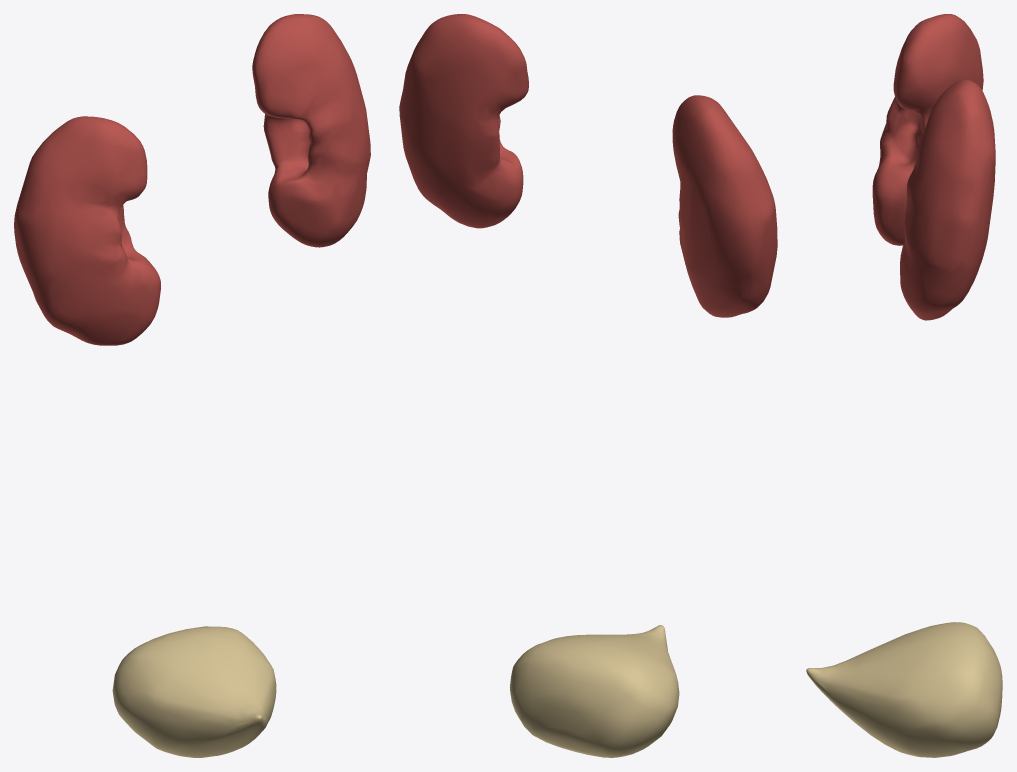
The model's file is z-anatomy-1.3.0-urinary.glb.
The picture shows the model from 3 angles, left to right: view 1: azimuth 30°, elevation 25°; view 2: azimuth 150°, elevation 25°; view 3: azimuth 270°, elevation 25°; orthographic projection. The views are drawn at different scales.
Parts seen in each view (by area): view 1: kidneys-kidney-right__Kidney.r, kidneys-kidney-left__Kidney.l, bladder__Urinary bladder; view 2: kidneys-kidney-left__Kidney.l, bladder__Urinary bladder, kidneys-kidney-right__Kidney.r; view 3: bladder__Urinary bladder, kidneys-kidney-left__Kidney.l, kidneys-kidney-right__Kidney.r.
Part boxes in pixels (bbox=[...]): kidneys-kidney-right__Kidney.r: bbox=[14, 116, 160, 345]; kidneys-kidney-left__Kidney.l: bbox=[252, 14, 370, 247]; bladder__Urinary bladder: bbox=[112, 626, 276, 757]; kidneys-kidney-left__Kidney.l: bbox=[399, 14, 528, 228]; bladder__Urinary bladder: bbox=[510, 625, 679, 757]; kidneys-kidney-right__Kidney.r: bbox=[672, 95, 777, 317]; bladder__Urinary bladder: bbox=[806, 622, 1002, 757]; kidneys-kidney-left__Kidney.l: bbox=[900, 79, 995, 320]; kidneys-kidney-right__Kidney.r: bbox=[872, 14, 983, 245].
Size of the model in its own units: 0.178 by 0.336 by 0.0833.
